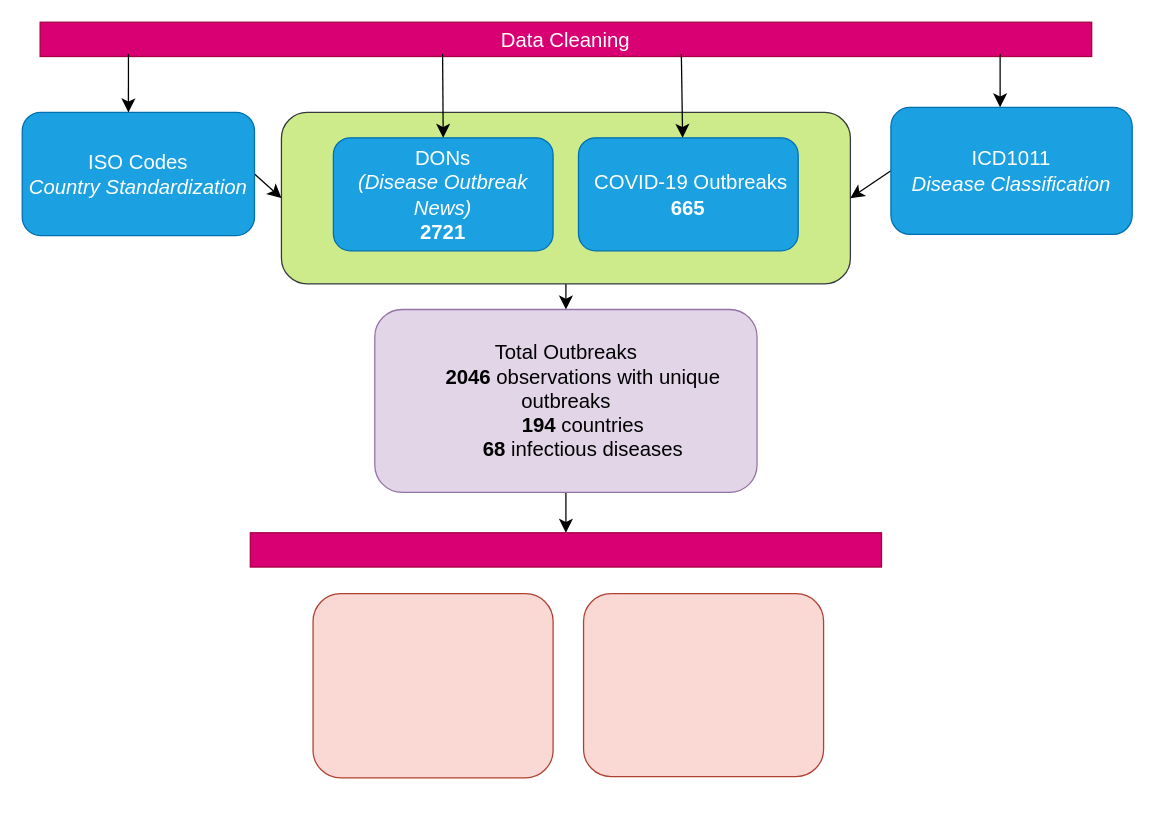
Image size: 1154x813. Some labels were removed from this diagram. Here are the shapes that lost their labels. From the top down, the centre of each, then its label:
At (x=565, y=549): "Analysis".
At (x=432, y=685): "Geospatial Data Opendaftsoft.com 194 countries".
At (x=703, y=684): "World Data Bank High, Upper Middle, Lower Middle, Low Income 216 countries".
